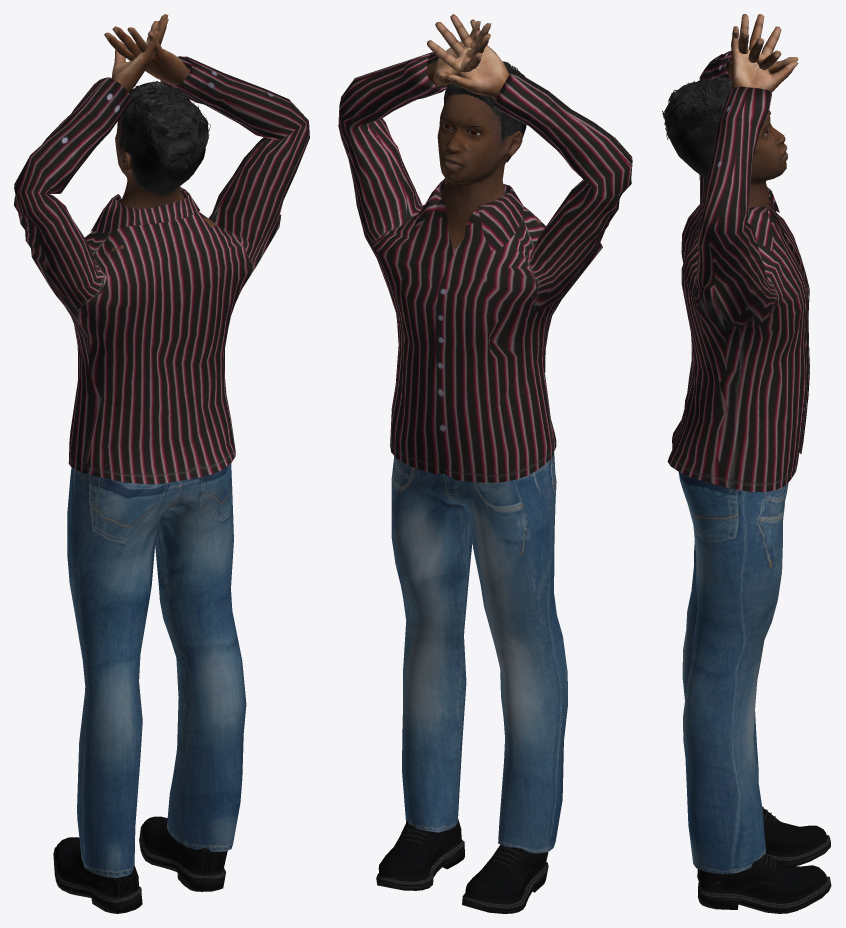
File: exasperated_3.gltf
3 views of the same model, side by side, from view 1: azimuth 30°, elevation 25°; view 2: azimuth 150°, elevation 25°; view 3: azimuth 270°, elevation 25° (orthographic).
Parts seen in each view (by area): view 1: exasperated; view 2: exasperated; view 3: exasperated.
Boxes of the visible parts, <box> form: exasperated: <box>14,14,309,913</box>; exasperated: <box>338,14,632,913</box>; exasperated: <box>662,14,831,913</box>.
Bounding box in the file's own units: 0.6843 × 1.96 × 0.3515.
6 materials, 6 textured.
